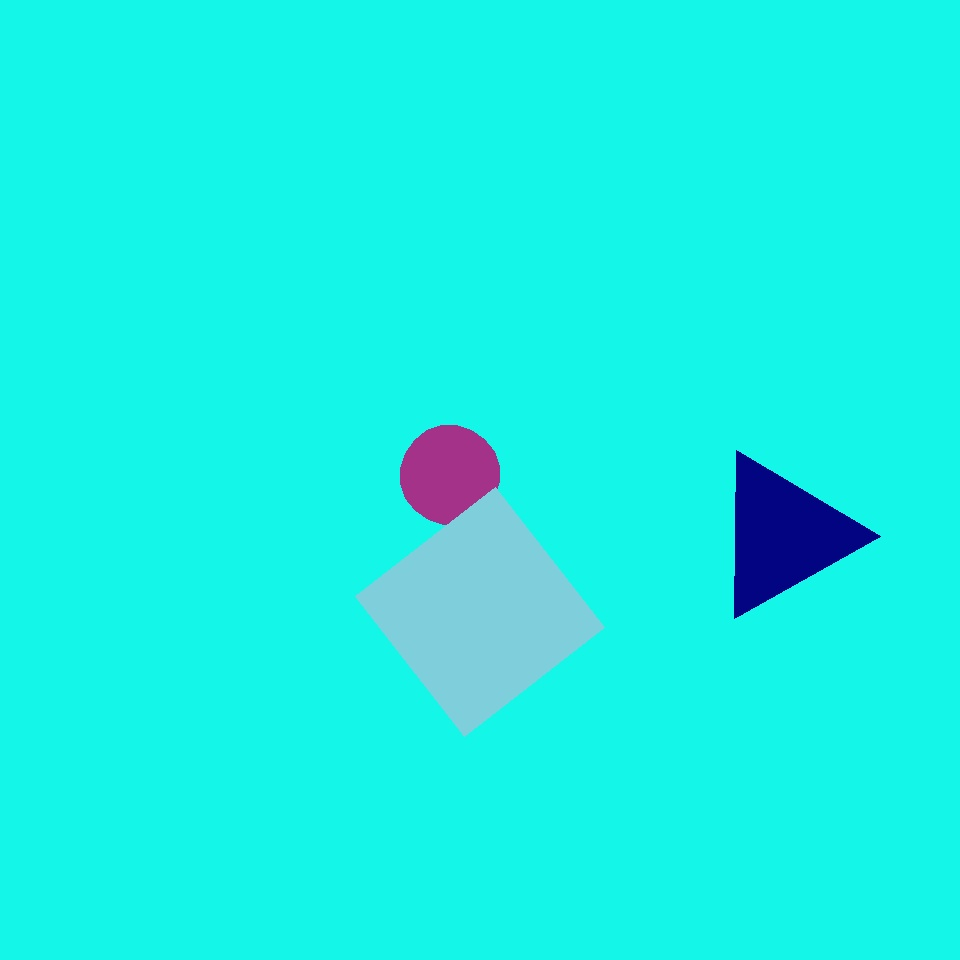circle: (711, 451, 857, 619)
square: (356, 488, 604, 736)
triangle: (400, 426, 499, 524)
